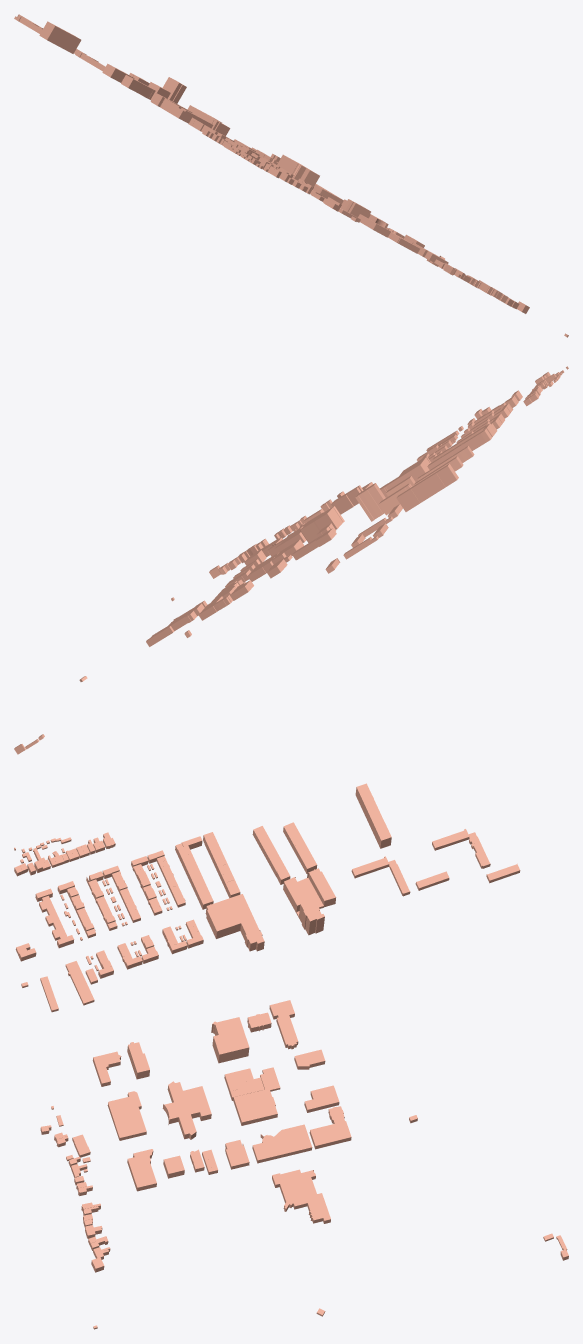
3 renders of one model, top to bottom at view 1: azimuth 30°, elevation 25°; view 2: azimuth 150°, elevation 25°; view 3: azimuth 270°, elevation 25°, orthographic. The views are drawn at different scales.
Bounding box in the file's own units: 529 × 400 × 590.
